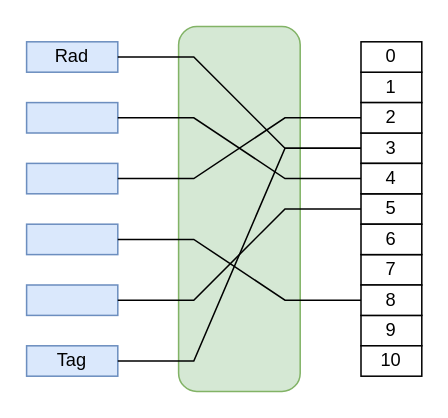
Image size: 448x418. Some labels were removed from this diagram. The shapes that lost their labels are listed below. From the top down, each one's centre as x and y in pixels, then its label:
At pixel 71 117: "Ohr".
At pixel 71 178: "Uhr".
At pixel 71 239: "Tor".
At pixel 71 299: "Hut".
